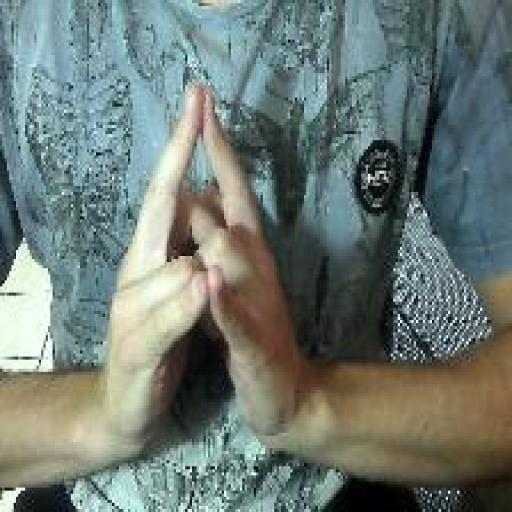Tori -bird-: (102, 80, 303, 458)
